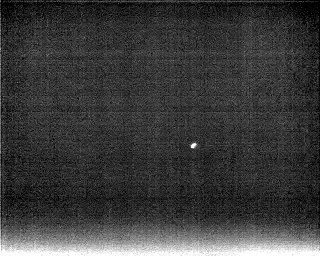BIRD: (188, 139, 200, 152)
